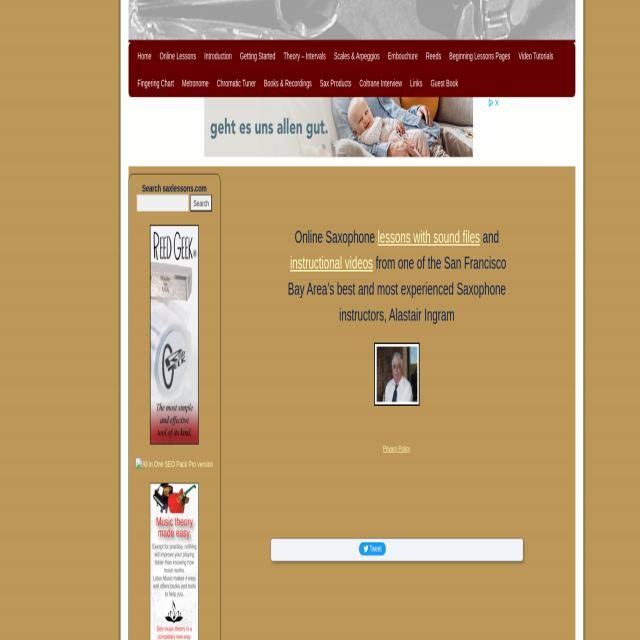button: (150, 223, 199, 442), (150, 483, 198, 637), (374, 340, 420, 404), (136, 456, 213, 468), (190, 192, 212, 210), (359, 542, 386, 556)
field: (137, 192, 189, 210)
